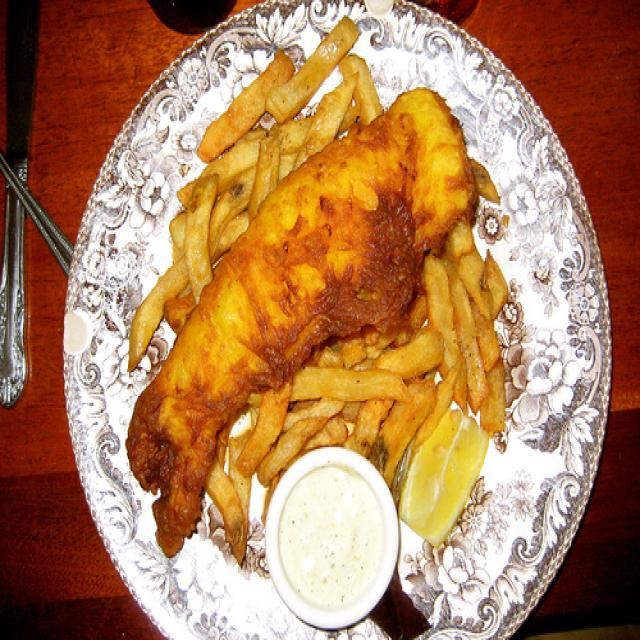炸货点心: (112, 70, 506, 548)
熟制海鲜: (112, 70, 506, 548)
